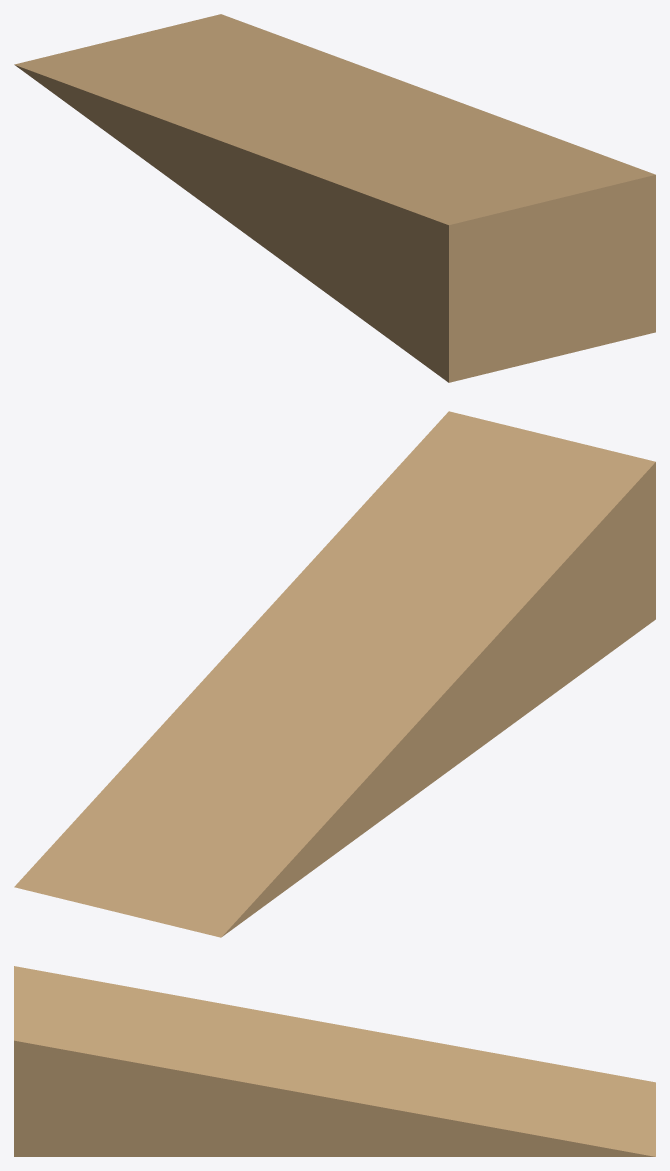
The model's file is prop-molding-plane-wedge-mp1.fbx.
3 views of the same model, one above another, from view 1: azimuth 30°, elevation 25°; view 2: azimuth 150°, elevation 25°; view 3: azimuth 270°, elevation 25° (orthographic). The views are drawn at different scales.
Visible parts, largest first — view 1: prop-molding-plane-wedge-mp1; view 2: prop-molding-plane-wedge-mp1; view 3: prop-molding-plane-wedge-mp1.
Boxes of the visible parts, box(x1,y1,x2,y2) form: prop-molding-plane-wedge-mp1: box(14, 14, 655, 382); prop-molding-plane-wedge-mp1: box(14, 411, 655, 937); prop-molding-plane-wedge-mp1: box(14, 966, 655, 1156).
Bounding box in the file's own units: 2.2 × 1.6 × 8.
